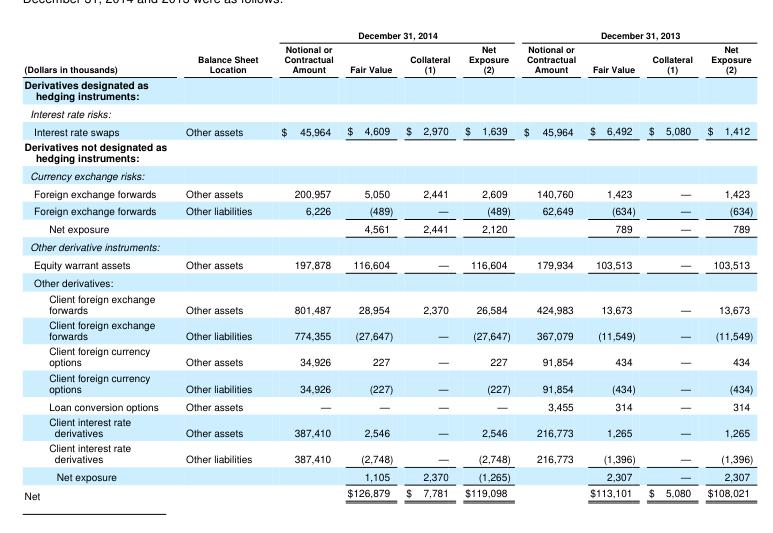table: (23, 28, 752, 501)
table column: (23, 28, 171, 501), (171, 28, 269, 501), (269, 28, 339, 501), (516, 28, 582, 501), (456, 28, 516, 501), (339, 28, 398, 501), (582, 28, 641, 501), (398, 28, 456, 501), (641, 28, 699, 501), (699, 28, 752, 501)
table column header: (23, 28, 752, 76)
table projected row header: (23, 76, 752, 104), (23, 138, 752, 166), (23, 237, 752, 255), (23, 104, 752, 121), (23, 166, 752, 183), (23, 273, 752, 290)
table row: (23, 41, 752, 76), (23, 76, 752, 104), (23, 138, 752, 166), (23, 439, 752, 467), (23, 342, 752, 369), (23, 369, 752, 396), (23, 290, 752, 316), (23, 316, 752, 342), (23, 413, 752, 439), (23, 183, 752, 201), (23, 201, 752, 219), (23, 219, 752, 237), (23, 237, 752, 255), (23, 255, 752, 273), (23, 483, 752, 501), (23, 104, 752, 121), (23, 121, 752, 138), (23, 166, 752, 183), (23, 273, 752, 290), (23, 396, 752, 413), (23, 467, 752, 483), (23, 28, 752, 41)
table spanning cell: (23, 28, 171, 76), (171, 28, 269, 76), (269, 28, 516, 41), (516, 28, 752, 41)
